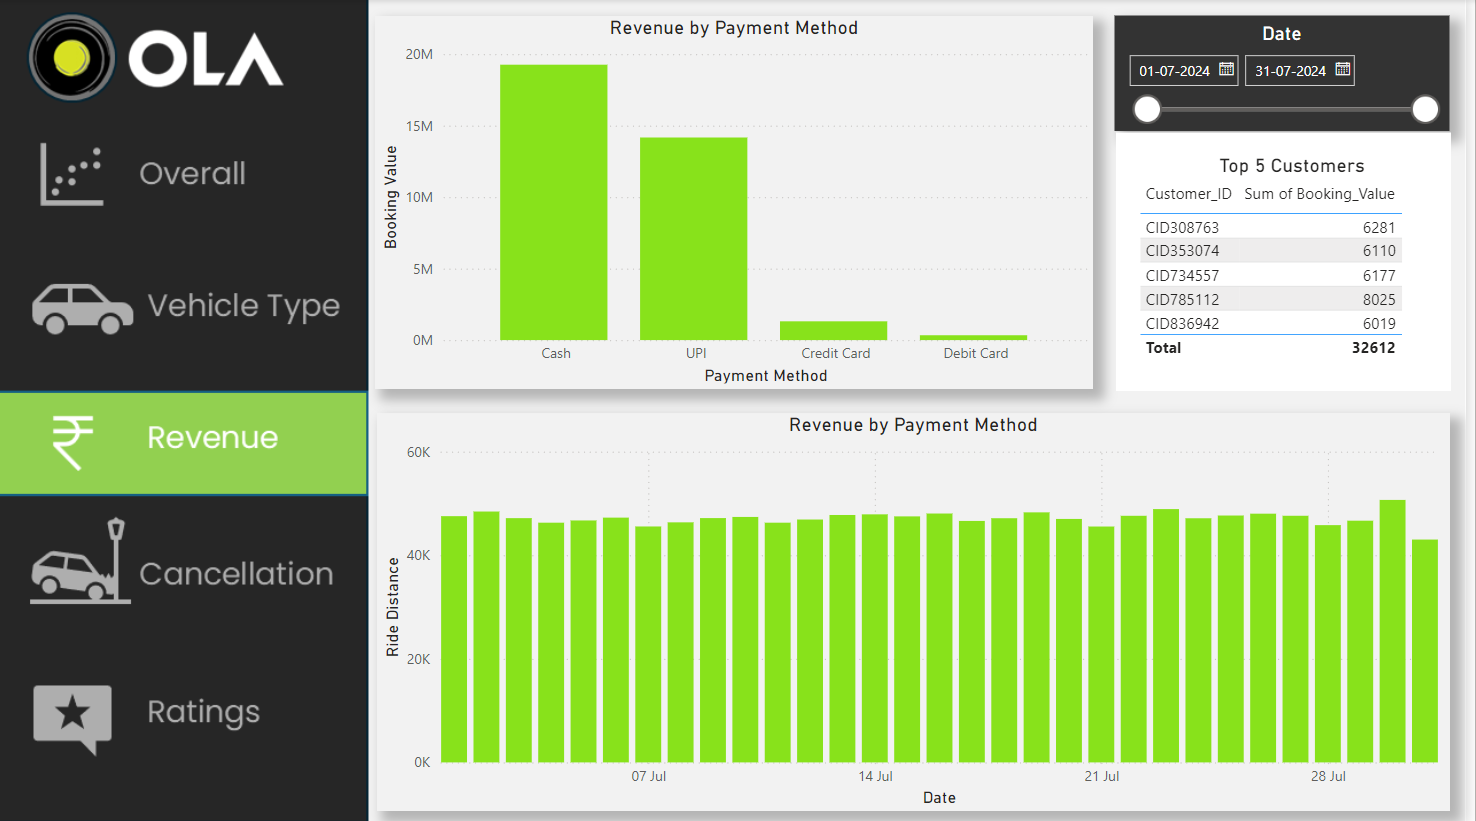

The page's visual inventory and layout, read from the dashboard file:
{"tool":"powerbi","page":{"name":"Revenue","canvas":[1280,720],"ordinal":2},"visuals":[{"type":"actionButton","box":[0,228.7,320.7,87.7],"z":0},{"type":"actionButton","box":[0,339.4,320.7,87.7],"z":1000},{"type":"actionButton","box":[0,444.4,320.7,87.7],"z":2000},{"type":"actionButton","box":[0,579.6,320.7,87.7],"z":3000},{"type":"actionButton","box":[0,106.4,320.7,87.7],"z":4000},{"type":"columnChart","title":"Revenue by Payment Method","fields":{"Category":["July.Payment_Method"],"Y":["Sum(July.Booking_Value)"]},"box":[329.8,14.7,626,325.6],"z":4001},{"type":"columnChart","title":"Revenue by Payment Method","fields":{"Y":["Sum(July.Ride_Distance)"],"Category":["July.Date"]},"box":[330.5,360.2,935.9,347.2],"z":4002},{"type":"slicer","title":"Date","fields":{"Values":["July.Date"]},"box":[974.7,14.7,292,100.8],"z":4003},{"type":"tableEx","title":"Top 5 Customers","fields":{"Values":["July.Customer_ID","Sum(July.Booking_Value)"]},"box":[975,116,292,225],"z":4004}]}

Visuals, with their boxes in screenshot pixels (x1, y1, x2, y2), scaled from the page's 1280x720 canvas onto the 1476x821 screenshot:
actionButton: left=0, top=261, right=370, bottom=361
actionButton: left=0, top=387, right=370, bottom=487
actionButton: left=0, top=507, right=370, bottom=607
actionButton: left=0, top=661, right=370, bottom=761
actionButton: left=0, top=121, right=370, bottom=221
"Revenue by Payment Method" columnChart: left=380, top=17, right=1102, bottom=388
"Revenue by Payment Method" columnChart: left=381, top=411, right=1460, bottom=807
"Date" slicer: left=1124, top=17, right=1461, bottom=132
"Top 5 Customers" tableEx: left=1124, top=132, right=1461, bottom=389
